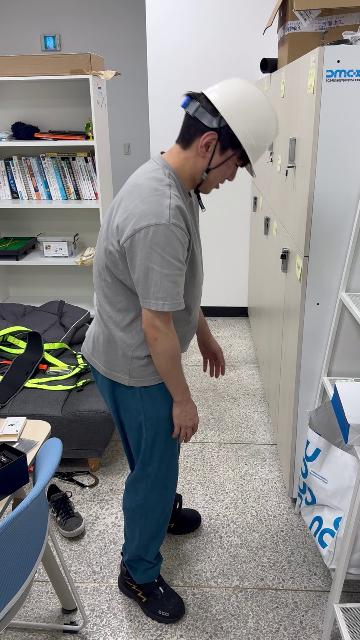helmet_worn: (198, 78, 277, 173)
shoe_not_worn: (45, 483, 86, 537)
shoe_worn: (118, 557, 185, 625), (167, 492, 201, 535)
vest_not_worn: (91, 160, 198, 390)
